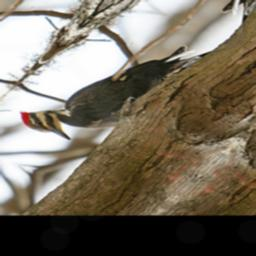Woodpecker: (8, 18, 214, 154)
